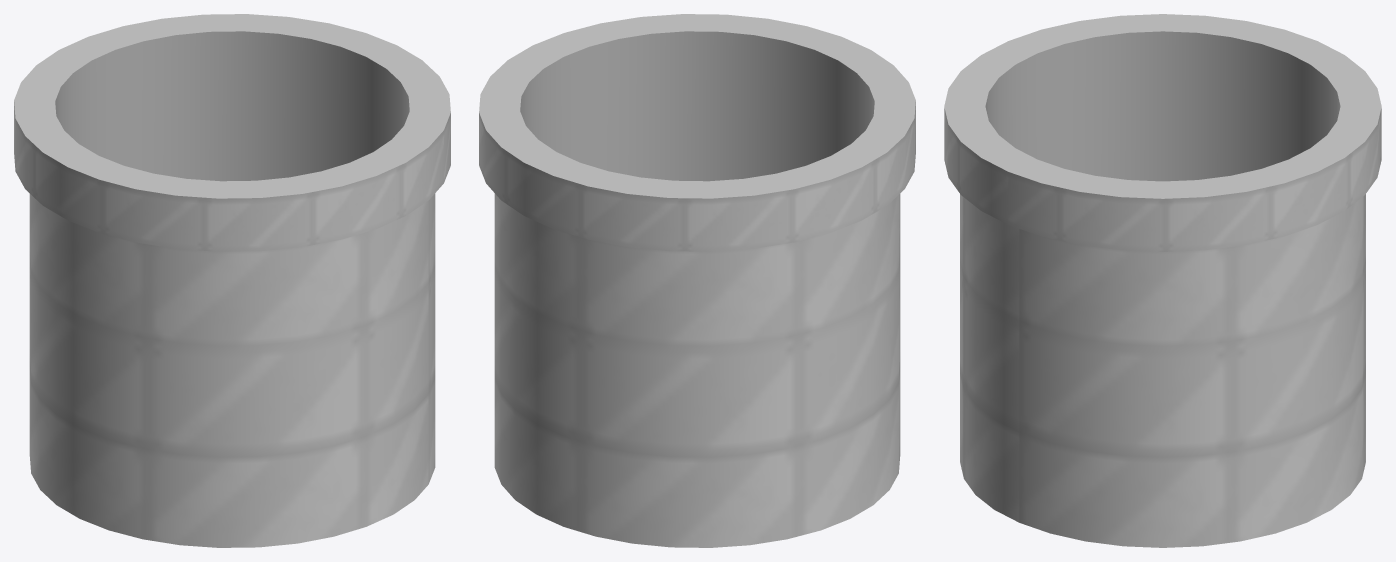
The model's file is trash Chute white.fbx.
The picture shows the model from 3 angles, left to right: view 1: azimuth 30°, elevation 25°; view 2: azimuth 150°, elevation 25°; view 3: azimuth 270°, elevation 25°; orthographic projection.
Visible parts, largest first — view 1: Cylinder; view 2: Cylinder; view 3: Cylinder.
Boxes of the visible parts, <box> form: Cylinder: <box>14,14,450,547</box>; Cylinder: <box>479,14,915,547</box>; Cylinder: <box>944,14,1381,547</box>.
Bounding box in the file's own units: 216 × 193 × 216.
